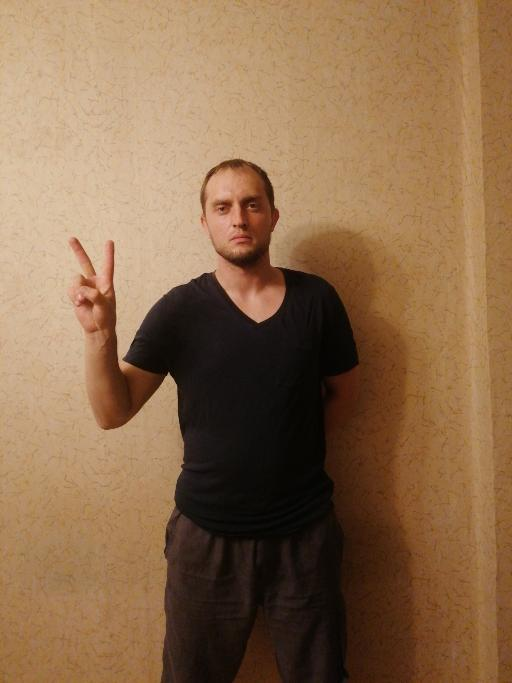peace: (66, 234, 117, 334)
